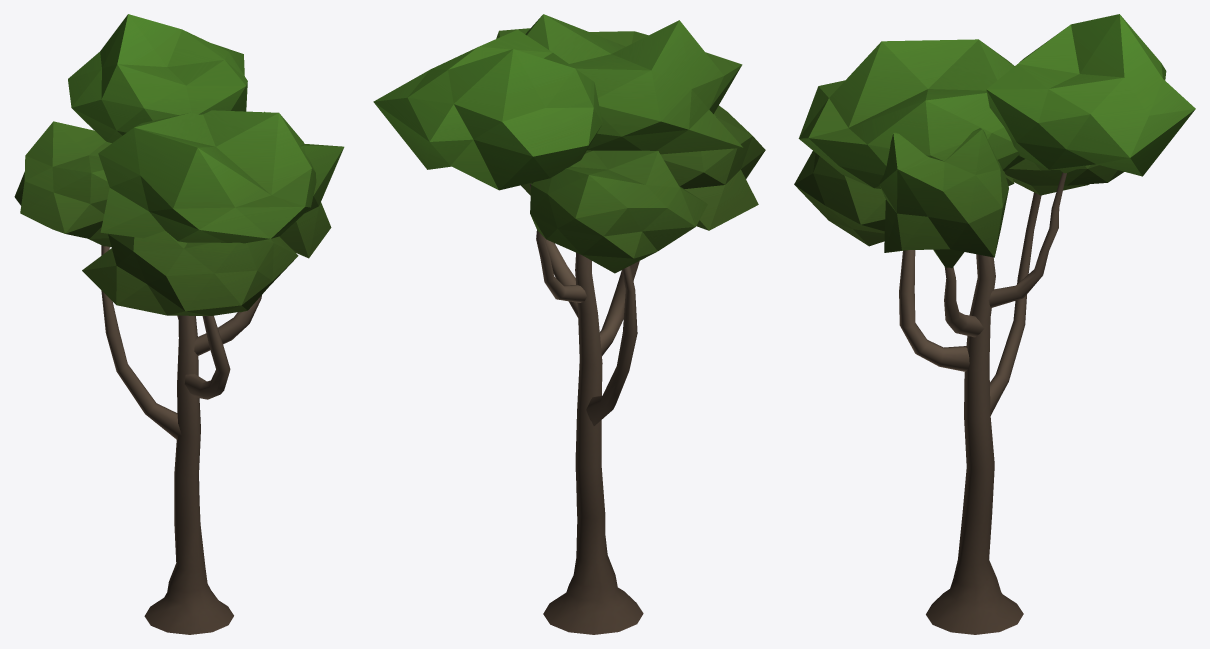
Rendered from prop_tree_D.FBX.
3 renders of one model, left to right at view 1: azimuth 30°, elevation 25°; view 2: azimuth 150°, elevation 25°; view 3: azimuth 270°, elevation 25°, orthographic. The views are drawn at different scales.
Visible parts, largest first — view 1: prop_tree_d; view 2: prop_tree_d; view 3: prop_tree_d.
Part boxes in pixels (x1,y1,x2,y2): prop_tree_d: [14, 14, 344, 634]; prop_tree_d: [373, 14, 765, 634]; prop_tree_d: [794, 14, 1195, 634].
Bounding box in the file's own units: 145 × 300 × 181.
1 material, 1 textured.
